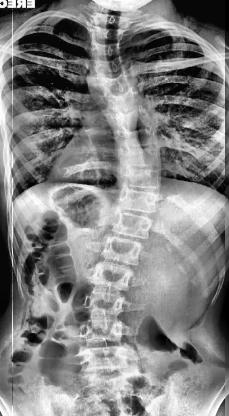Vertebrae: (80, 344, 136, 374), (82, 286, 130, 320), (77, 314, 129, 342), (104, 234, 146, 266), (115, 206, 157, 238), (117, 127, 167, 153), (126, 164, 171, 192), (108, 109, 154, 135), (90, 260, 132, 288), (123, 146, 170, 170), (123, 188, 166, 214), (92, 75, 137, 95), (92, 58, 130, 78), (98, 93, 140, 111), (88, 40, 124, 61)
